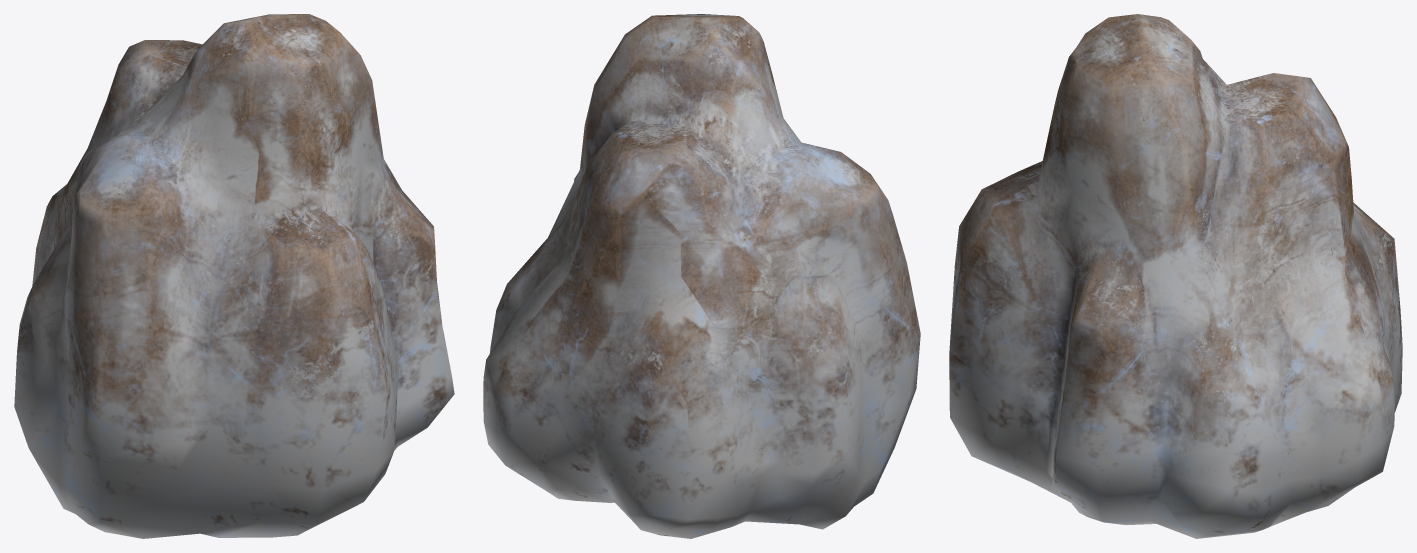
The model's file is EP1_rock02a.fbx.
3 views of the same model, side by side, from view 1: azimuth 30°, elevation 25°; view 2: azimuth 150°, elevation 25°; view 3: azimuth 270°, elevation 25° (orthographic). The views are drawn at different scales.
Parts seen in each view (by area): view 1: rock02a_low; view 2: rock02a_low; view 3: rock02a_low.
Part boxes in pixels (x1=…): rock02a_low: x1=14, y1=14, x2=454, y2=538; rock02a_low: x1=483, y1=14, x2=920, y2=538; rock02a_low: x1=949, y1=14, x2=1402, y2=538.
Bounding box in the file's own units: 2.71 × 3.23 × 2.78.
